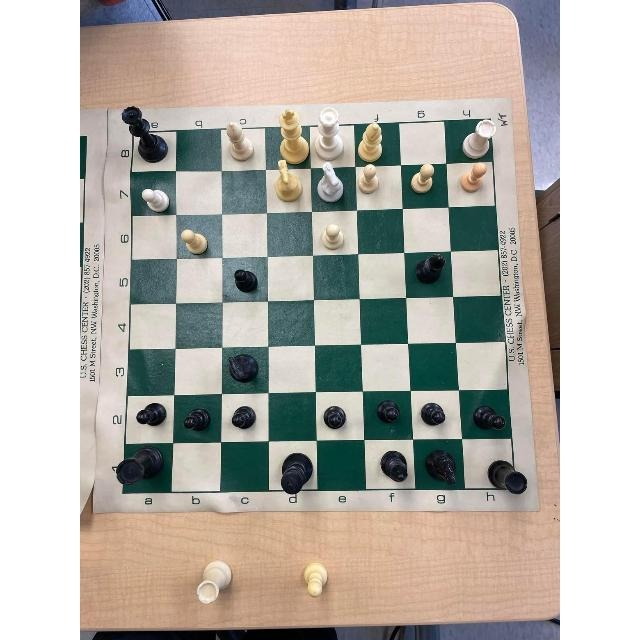black-bishop: (414, 252, 446, 290), (380, 448, 408, 486)
black-king: (279, 449, 314, 496)
black-knight: (424, 448, 460, 488), (226, 351, 260, 385)
black-pawn: (472, 402, 508, 436), (419, 400, 447, 430), (375, 396, 402, 427), (136, 402, 168, 428), (232, 267, 261, 295), (183, 406, 211, 435), (230, 403, 258, 430), (322, 404, 348, 432)
black-queen: (118, 103, 170, 165)
black-rook: (112, 444, 166, 487), (486, 457, 528, 499)
white-bishop: (220, 118, 256, 163), (357, 121, 385, 162)
white-king: (275, 107, 311, 167)
white-knight: (270, 157, 304, 202), (315, 162, 345, 204)
white-pawn: (458, 159, 488, 195), (179, 225, 210, 259), (355, 160, 382, 197), (410, 160, 436, 197), (142, 184, 171, 214), (320, 221, 345, 254)
white-queen: (314, 105, 346, 163)
white-rook: (461, 117, 497, 161)
